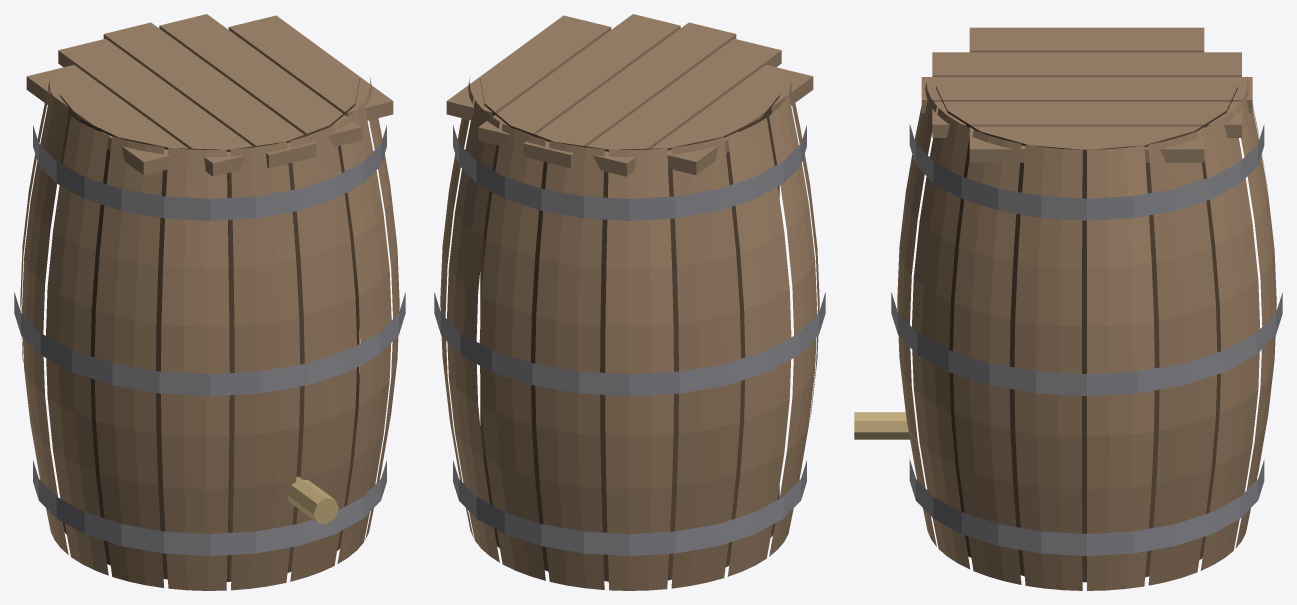
The model's file is barrel.glb.
The picture shows the model from 3 angles, left to right: view 1: azimuth 30°, elevation 25°; view 2: azimuth 150°, elevation 25°; view 3: azimuth 270°, elevation 25°; orthographic projection.
Parts seen in each view (by area): view 1: barrel; view 2: barrel; view 3: barrel.
Part boxes in pixels (x1,y1,x2,y2): barrel: (14,14,405,590); barrel: (434,14,825,590); barrel: (854,27,1282,590).
Size of the model in its own units: 0.804 by 1 by 0.8802.
